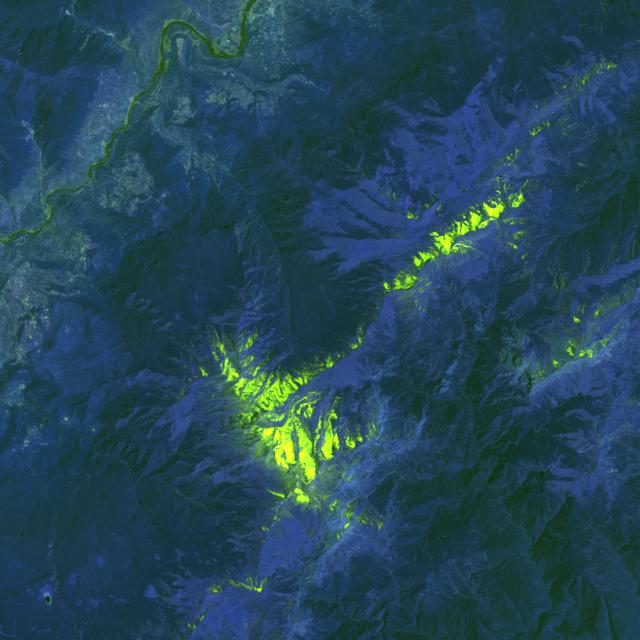landslides: (283, 11, 312, 37), (505, 591, 524, 625), (247, 22, 273, 41), (315, 278, 332, 307), (235, 213, 256, 235), (395, 273, 416, 294), (79, 28, 98, 49), (561, 367, 575, 390), (577, 358, 586, 387), (280, 503, 294, 521), (403, 267, 420, 281), (347, 528, 366, 540), (438, 237, 451, 254), (380, 349, 397, 362), (445, 335, 464, 346), (421, 268, 437, 281), (429, 242, 442, 257), (426, 261, 438, 276), (579, 163, 595, 174), (619, 472, 640, 480), (232, 187, 243, 202), (238, 234, 245, 254), (315, 13, 321, 36), (276, 520, 283, 539), (628, 284, 636, 300), (513, 163, 522, 177), (587, 139, 598, 150), (432, 259, 442, 271), (599, 458, 614, 466), (492, 217, 500, 231)
